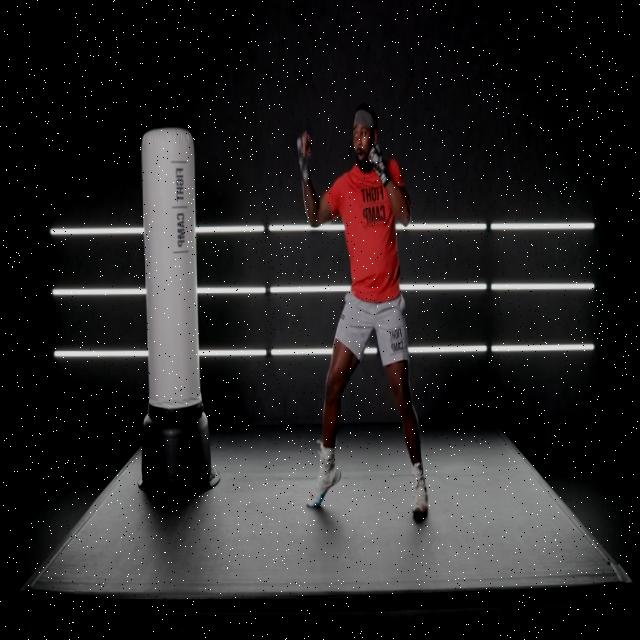Uppercut: (275, 127, 416, 304)
